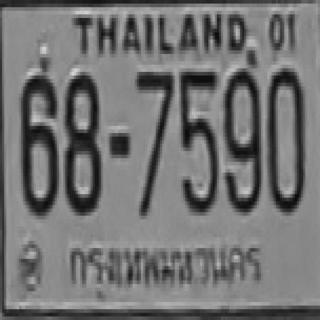N00: (265, 65, 303, 209)
N05: (179, 67, 217, 210)
N06: (19, 72, 57, 212)
N07: (135, 66, 173, 214)
N08: (63, 68, 99, 212)
N09: (223, 65, 259, 209)
P04: (60, 226, 266, 305)
